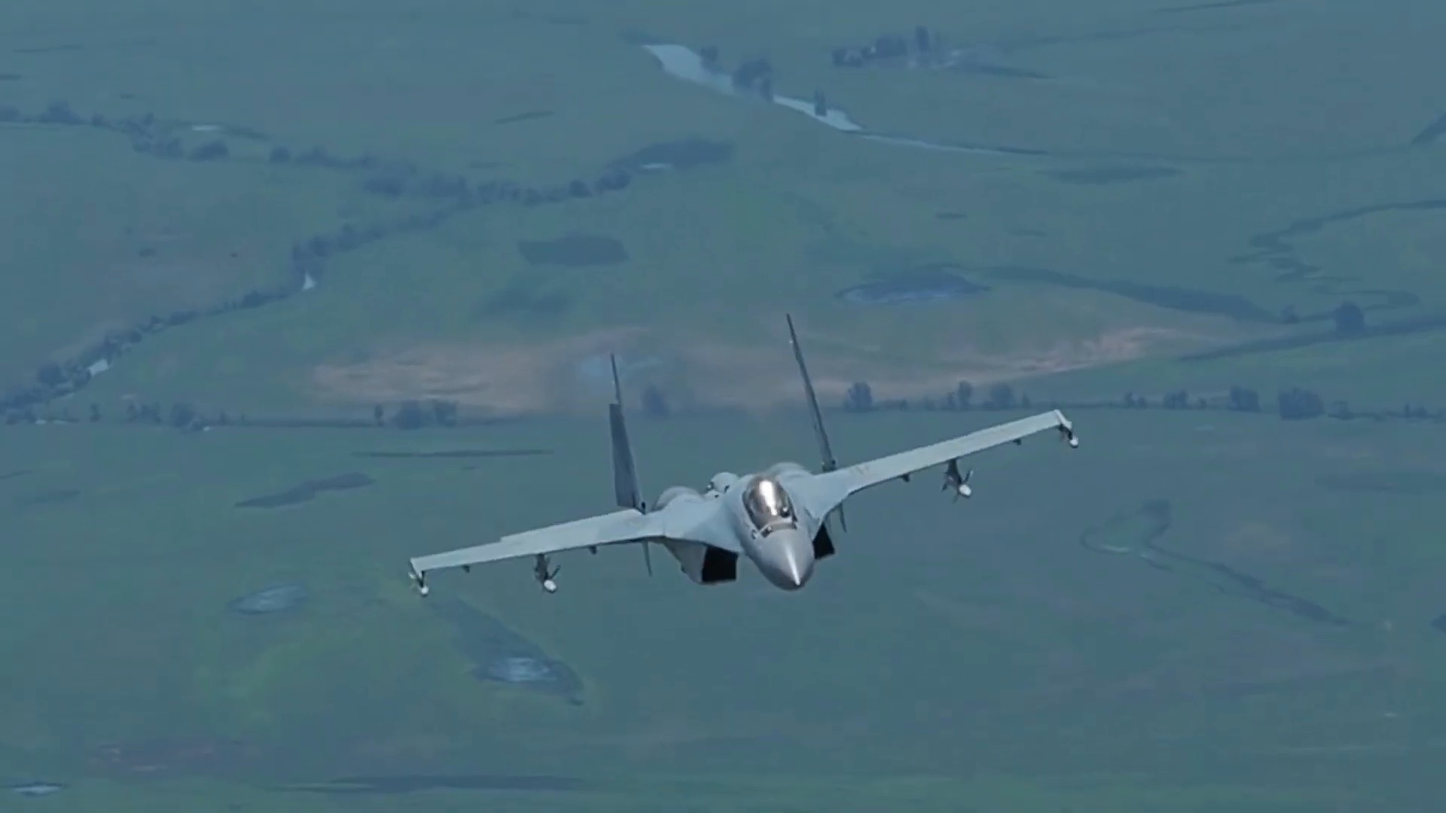Su35: (407, 315, 1079, 598)
